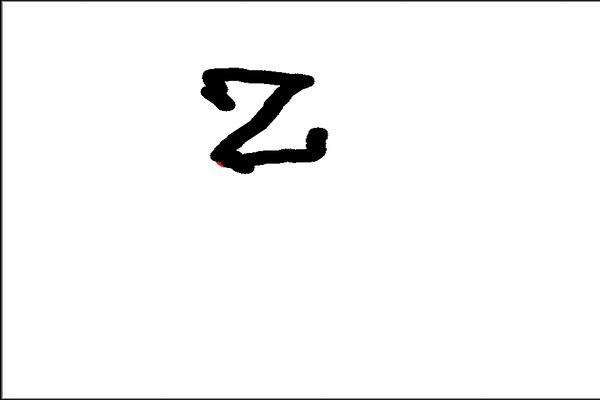Z: (194, 57, 341, 181)
